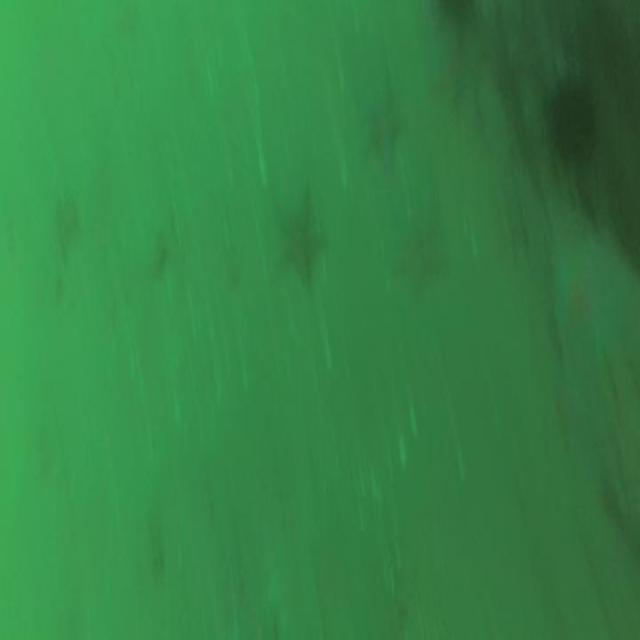echinus: (538, 59, 602, 180)
starfish: (547, 212, 638, 381), (275, 186, 327, 292), (362, 81, 404, 177)
